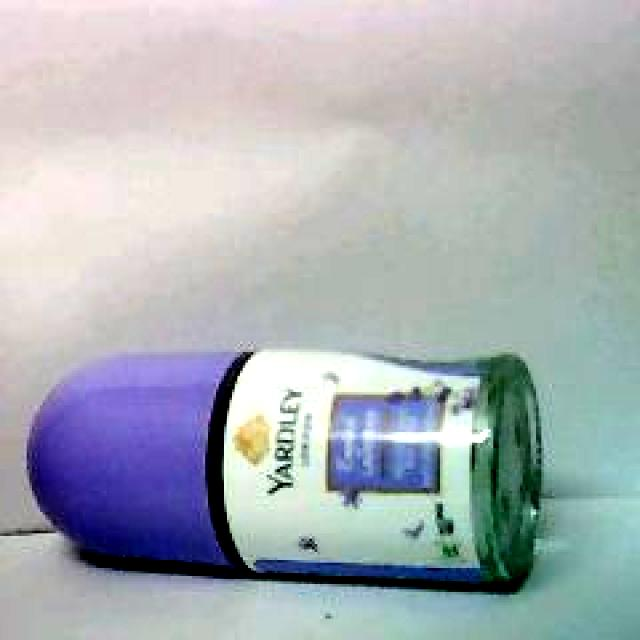yardley_rollon: (24, 347, 547, 595)
